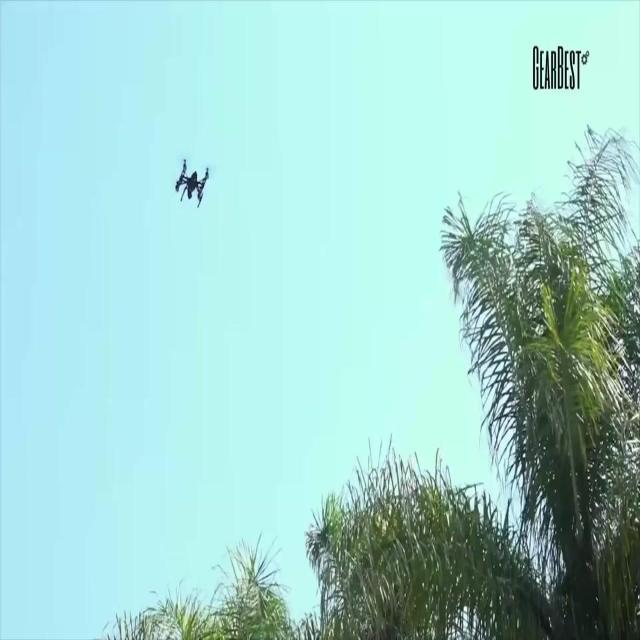drone: (171, 154, 211, 208)
